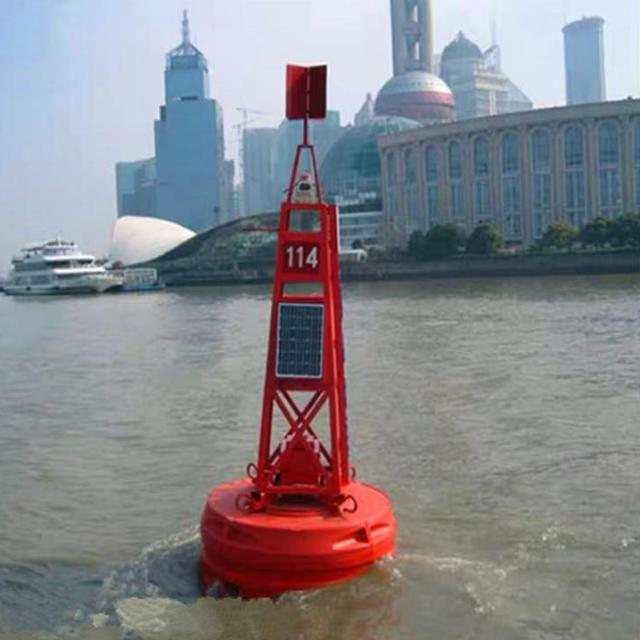buoy: (194, 48, 404, 593)
